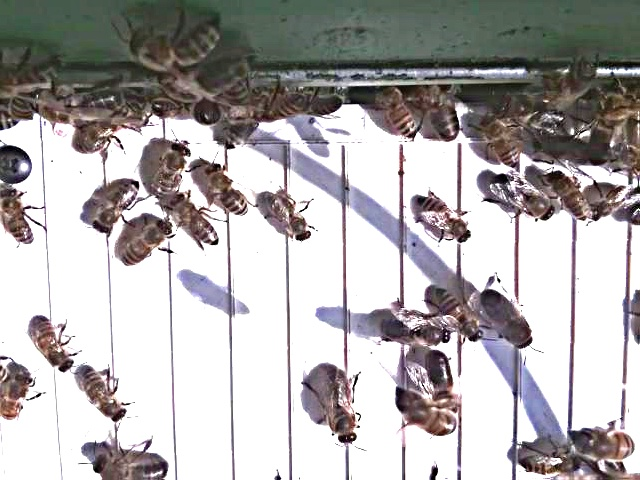Drone: (478, 288, 538, 354), (487, 171, 558, 225), (318, 364, 361, 447), (376, 315, 452, 349), (86, 450, 171, 480), (424, 348, 459, 413)
Worker: (414, 195, 475, 248), (434, 284, 482, 346), (267, 188, 316, 247), (120, 218, 174, 271), (81, 364, 127, 426), (32, 314, 77, 377), (92, 179, 140, 238), (206, 162, 254, 220), (176, 195, 222, 253), (552, 167, 595, 225), (0, 188, 37, 249), (152, 141, 190, 200), (382, 88, 419, 142), (516, 452, 587, 480), (0, 369, 35, 424)
